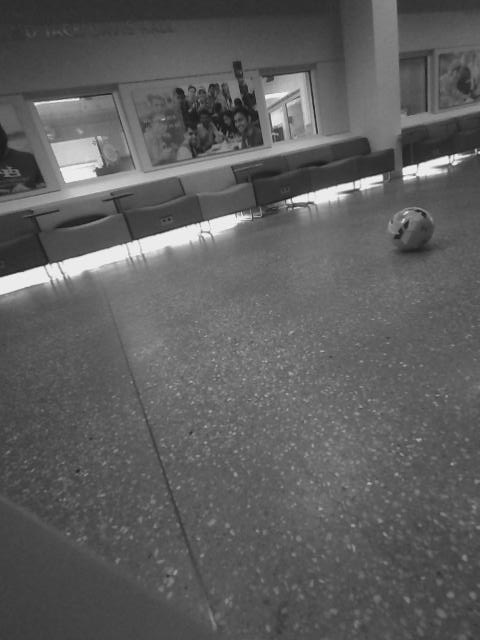ball: (384, 204, 438, 253)
